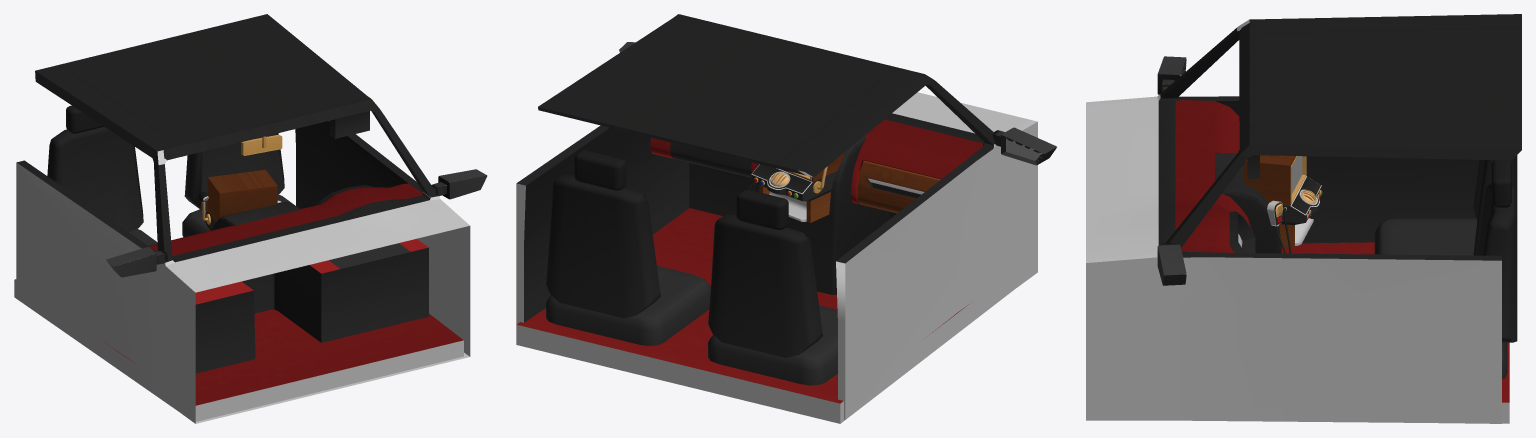
File: TruckInterior_ZonderStuur.fbx
The picture shows the model from 3 angles, left to right: view 1: azimuth 30°, elevation 25°; view 2: azimuth 150°, elevation 25°; view 3: azimuth 270°, elevation 25°; orthographic projection. The views are drawn at different scales.
Parts seen in each view (by area): view 1: polySurface49; view 2: polySurface49; view 3: polySurface49.
Part boxes in pixels (x1=…): polySurface49: x1=14, y1=14, x2=487, y2=423; polySurface49: x1=516, y1=14, x2=1056, y2=423; polySurface49: x1=1086, y1=14, x2=1521, y2=423.
Bounding box in the file's own units: 190 × 105 × 160.
